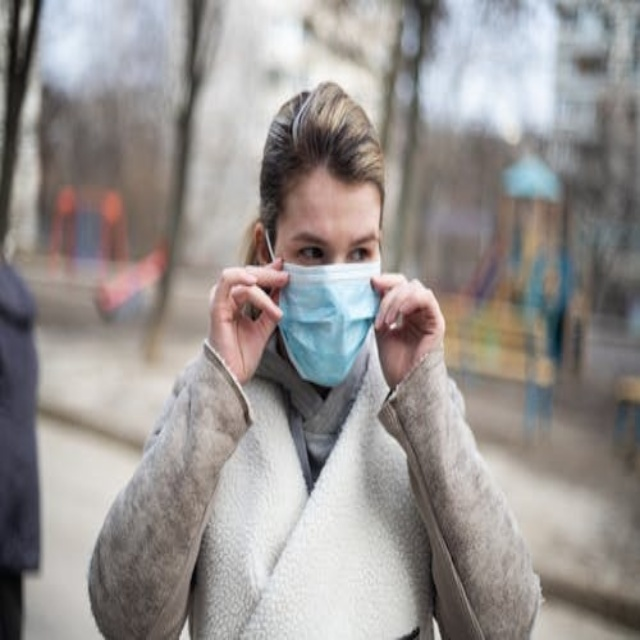Mascara: (270, 238, 382, 384)
Sin_gafas: (284, 213, 375, 273)
Sin_guantes: (207, 256, 285, 375), (367, 269, 445, 379)
